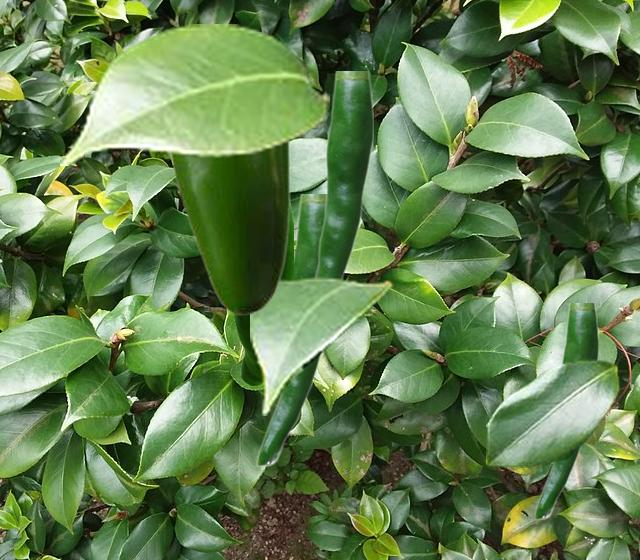green_chili: (166, 32, 289, 315), (255, 194, 324, 466), (533, 303, 597, 519), (313, 71, 372, 278), (231, 187, 292, 385)
